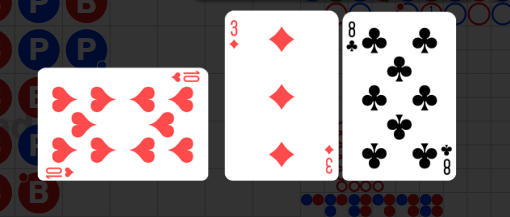10H: (169, 70, 201, 85), (44, 164, 76, 178)
8C: (346, 20, 360, 54)
